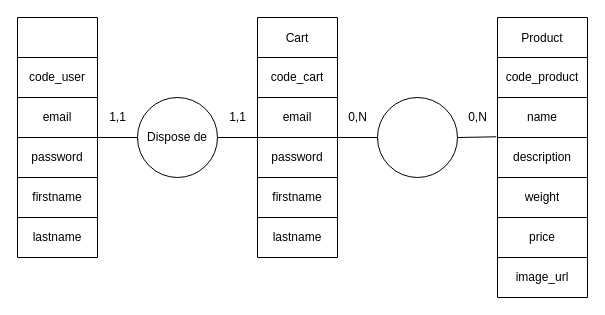
Image size: 605x315. Some labels were removed from this diagram. Here are the shapes that lost their labels. From the top down, the box of each, then its label:
(16, 16, 98, 258): Users
(376, 96, 458, 178): Contient
